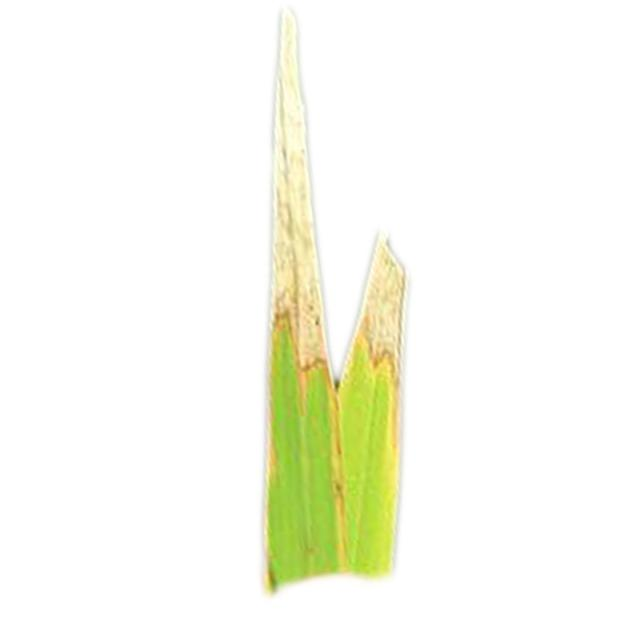Leaf scald: (220, 0, 445, 596)
